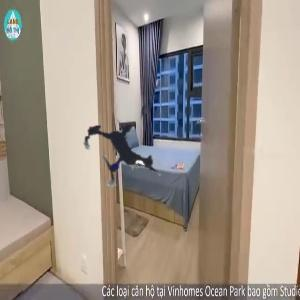drone: (56, 90, 184, 218)
